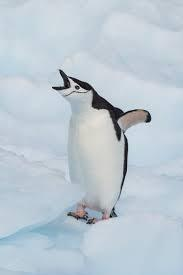chinstrap: (39, 67, 161, 244)
